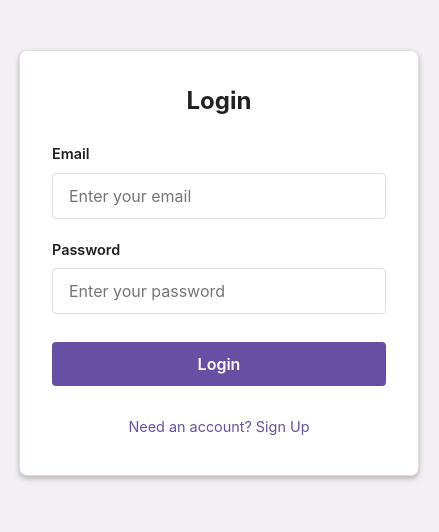
Test: Auth Component › displays error message when signup fails
Note: Switch to signup
Click the button "Need an account? Sign Up" at (219,427), box [120,410,318,443]
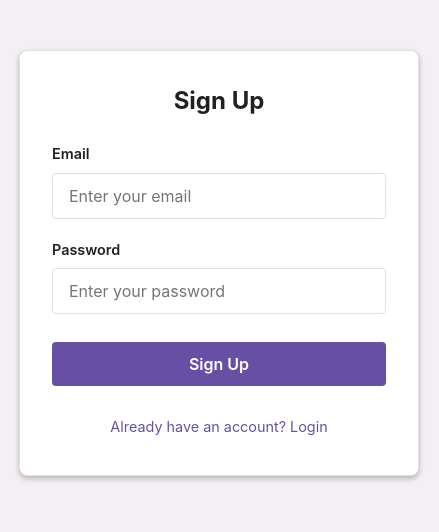
Note: Fill in the form
Type "existing@example.com" into the field labelled "Email" at (219,196), box [52,172,386,218]
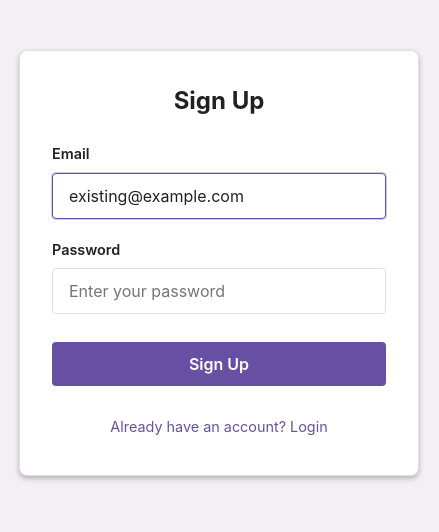
Type "password123" into the password field labelled "Password" at (219,291), box [52,268,386,314]
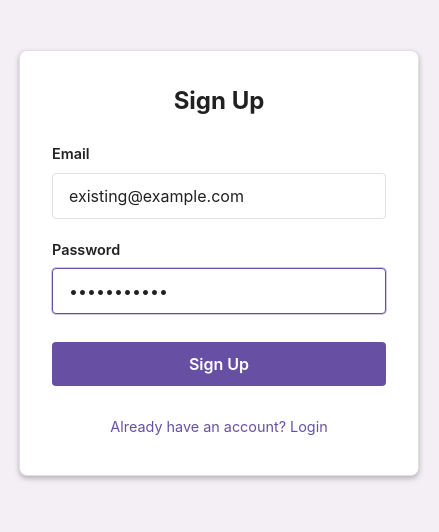
Note: Submit the form
Click the button "Sign Up" at (219,364), box [52,342,386,386]
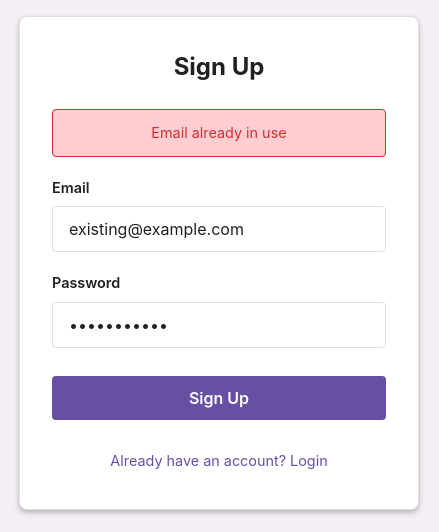
Result: the text "Email already in use" is shown at [52,109,386,157]
